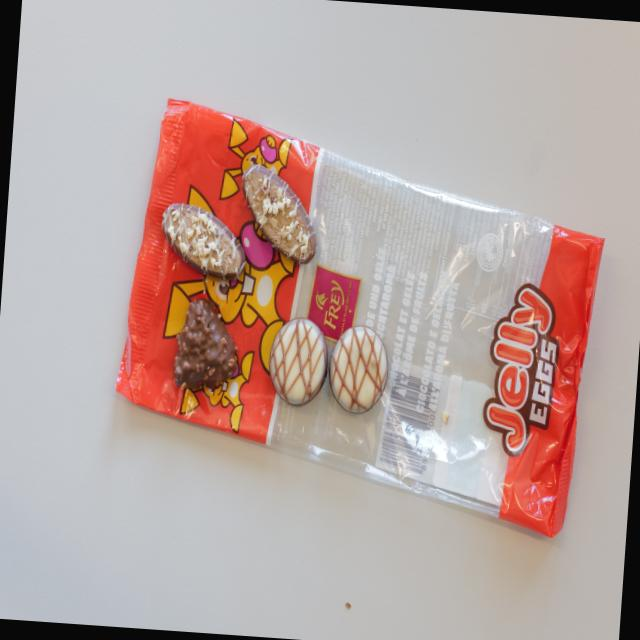Amandina: (234, 164, 320, 267), (157, 200, 248, 281)
Creme_brulee: (264, 314, 330, 409), (325, 323, 389, 416)
Triangolo: (171, 296, 242, 392)
